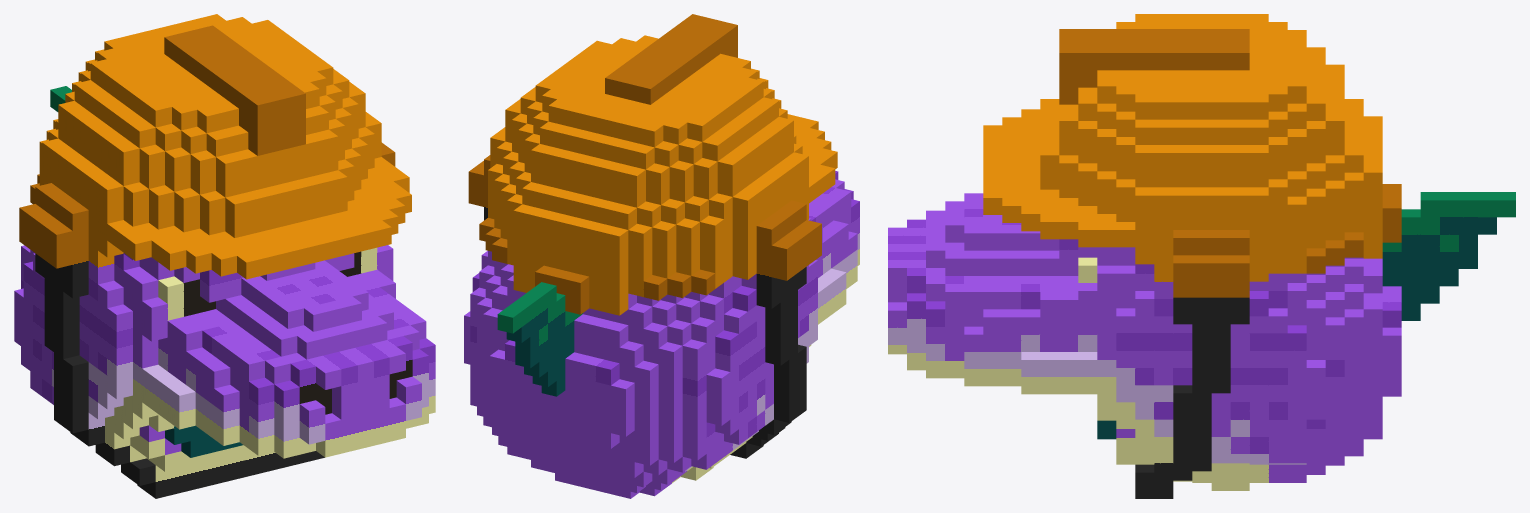
File: yellow hard hat_3d glasses.gltf
3 views of the same model, side by side, from view 1: azimuth 30°, elevation 25°; view 2: azimuth 150°, elevation 25°; view 3: azimuth 270°, elevation 25° (orthographic). The views are drawn at different scales.
Parts seen in each view (by area): view 1: C57_H_CoolDude_3DG_RBShade-Mesh; view 2: C57_H_CoolDude_3DG_RBShade-Mesh; view 3: C57_H_CoolDude_3DG_RBShade-Mesh.
Part boxes in pixels (left/top/right/bottom): C57_H_CoolDude_3DG_RBShade-Mesh: left=14, top=14, right=435, bottom=498; C57_H_CoolDude_3DG_RBShade-Mesh: left=464, top=14, right=859, bottom=498; C57_H_CoolDude_3DG_RBShade-Mesh: left=888, top=14, right=1515, bottom=498.
Bounding box in the file's own units: 21 × 24 × 33.
Materials: 1 (1 with a texture image).
